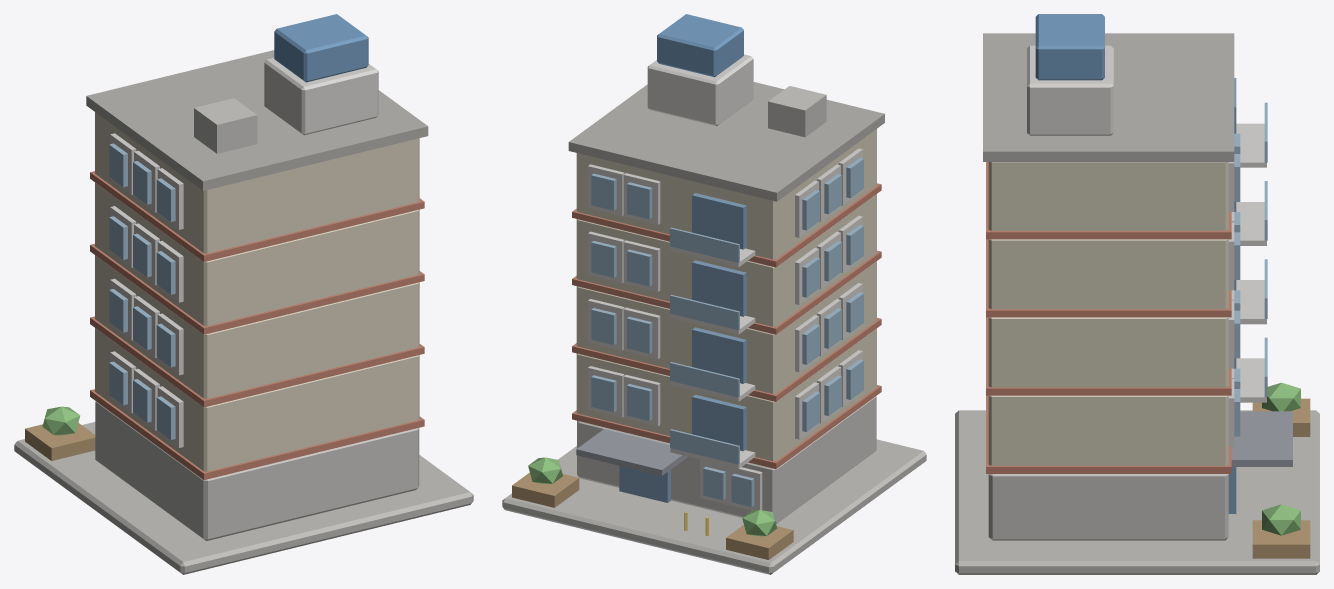
File: residencial__predio_apartamentos.glb
3 renders of one model, left to right at view 1: azimuth 30°, elevation 25°; view 2: azimuth 150°, elevation 25°; view 3: azimuth 270°, elevation 25°, orthographic. The views are drawn at different scales.
Parts seen in each view (by area): view 1: residencial__predio_apartamentos; view 2: residencial__predio_apartamentos; view 3: residencial__predio_apartamentos.
Boxes of the visible parts, x1,y1,x2,y2 form: residencial__predio_apartamentos: (14,14,473,574); residencial__predio_apartamentos: (502,14,926,574); residencial__predio_apartamentos: (955,14,1319,574).
Size of the model in its own units: 1.9 by 2.84 by 1.9.
